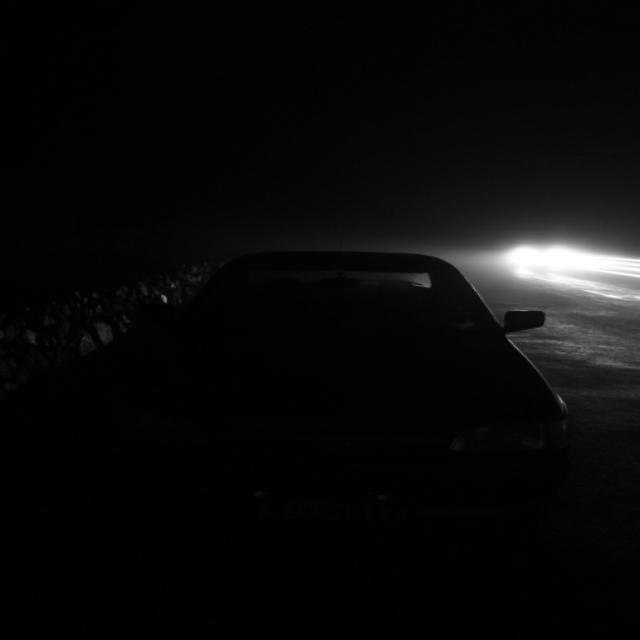Car: (115, 246, 600, 555)
